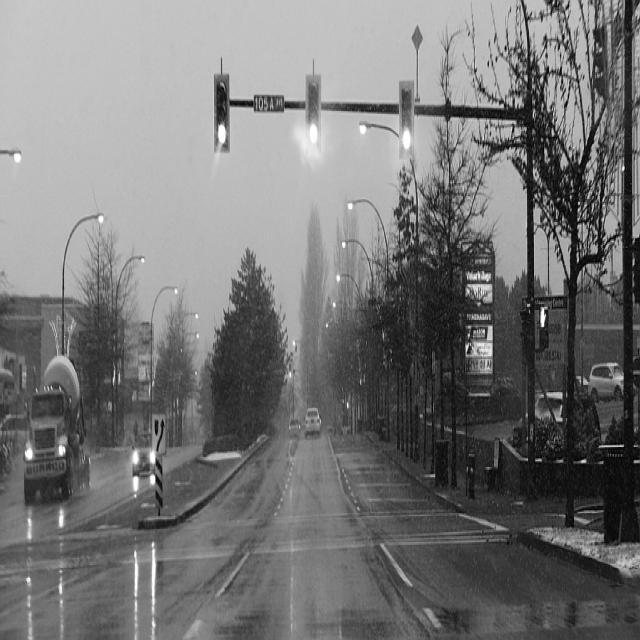traffic light: (209, 74, 234, 155)
